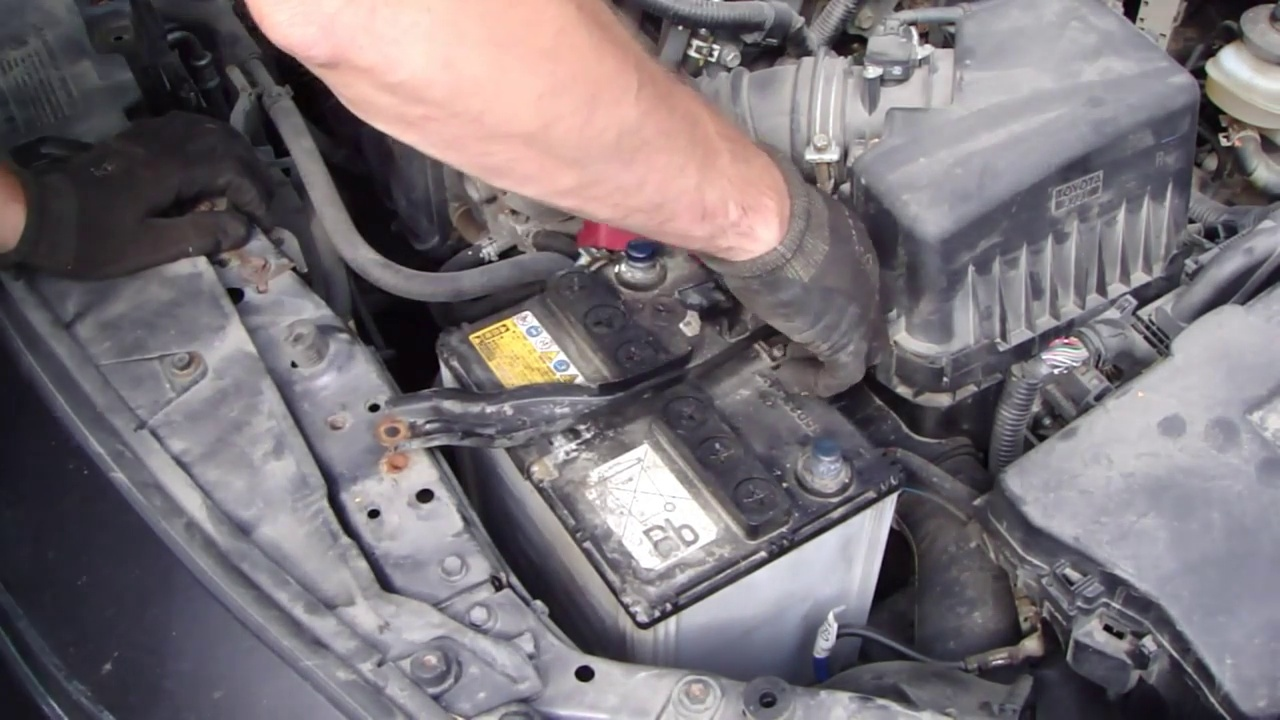battery: (432, 220, 897, 601)
neg_disconnected: (761, 416, 883, 520)
pos_touched: (560, 101, 726, 311)
